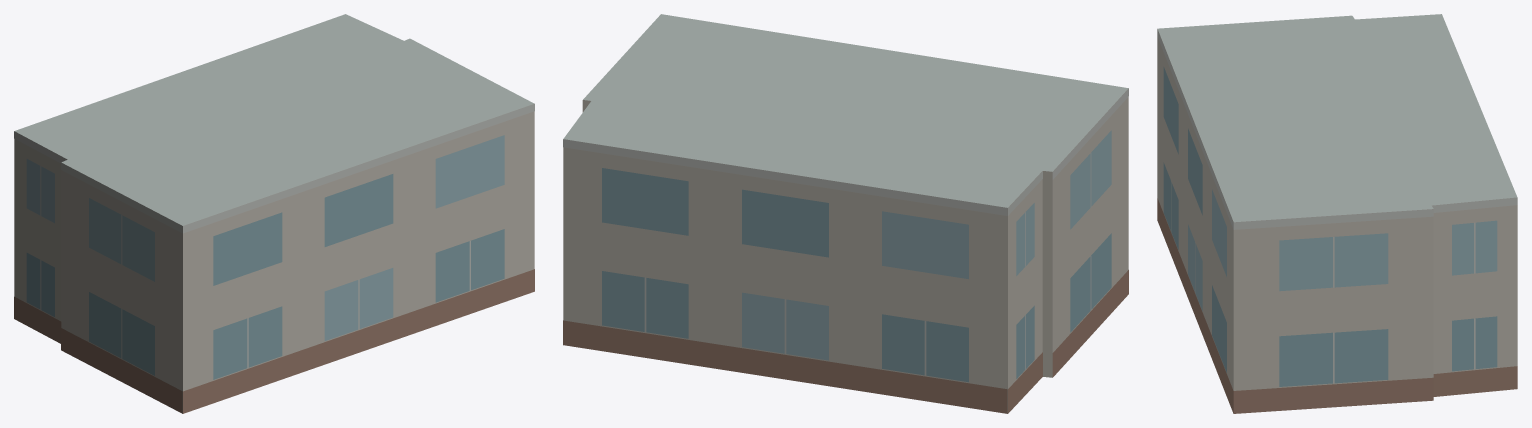
Rendered from survey-upis-32546807.glb.
3 renders of one model, left to right at view 1: azimuth 30°, elevation 25°; view 2: azimuth 150°, elevation 25°; view 3: azimuth 270°, elevation 25°, orthographic. The views are drawn at different scales.
Parts seen in each view (by area): view 1: survey-upis-32546807.tmp; view 2: survey-upis-32546807.tmp; view 3: survey-upis-32546807.tmp.
Boxes of the visible parts, x1,y1,x2,y2 form: survey-upis-32546807.tmp: [14, 14, 534, 413]; survey-upis-32546807.tmp: [563, 14, 1128, 413]; survey-upis-32546807.tmp: [1157, 14, 1517, 413].
Size of the model in its own units: 14.23 by 6.1 by 10.4.
